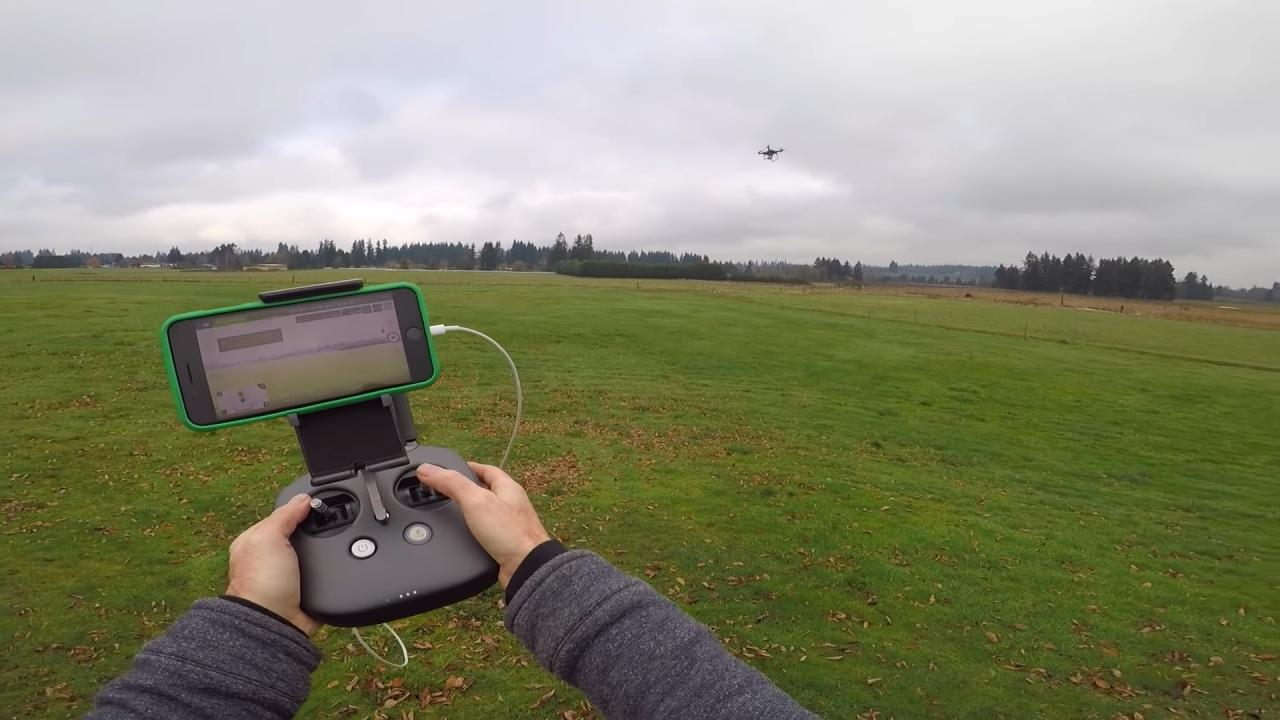Drone: (748, 139, 792, 167)
